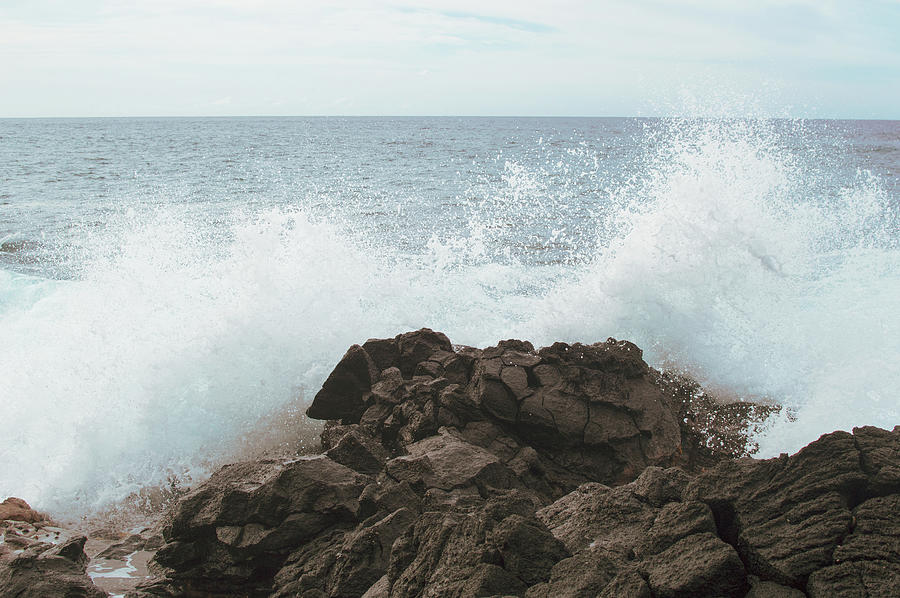volcanic_rock: (329, 442, 566, 598), (470, 340, 678, 482), (176, 476, 376, 598), (532, 476, 730, 598), (720, 450, 884, 592)
